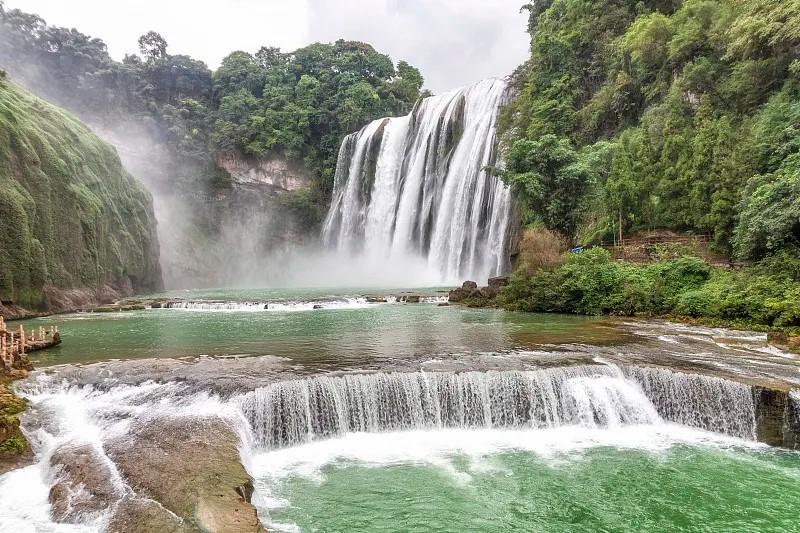Huangguoshu: (320, 79, 510, 287)
